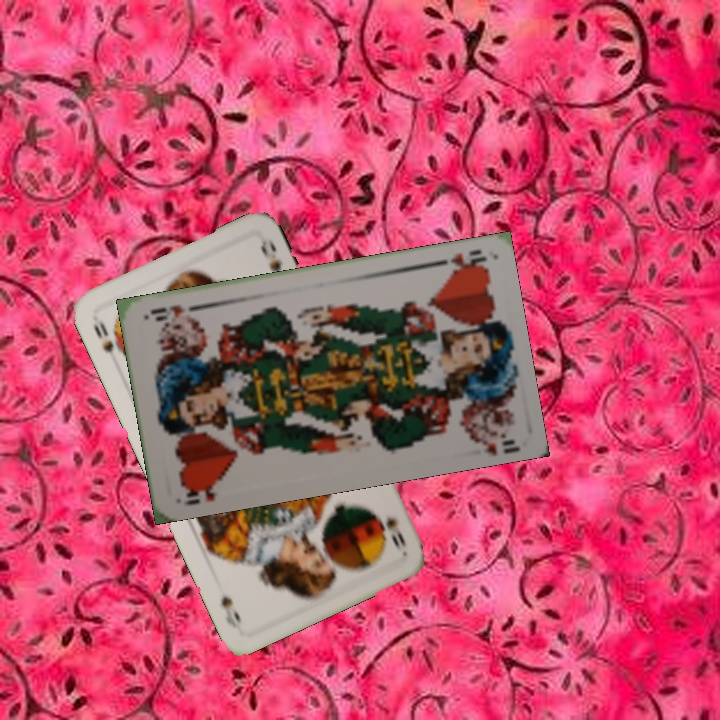HO: (429, 245, 490, 275), (176, 478, 219, 508)
SO: (89, 317, 128, 363), (381, 513, 409, 553)
